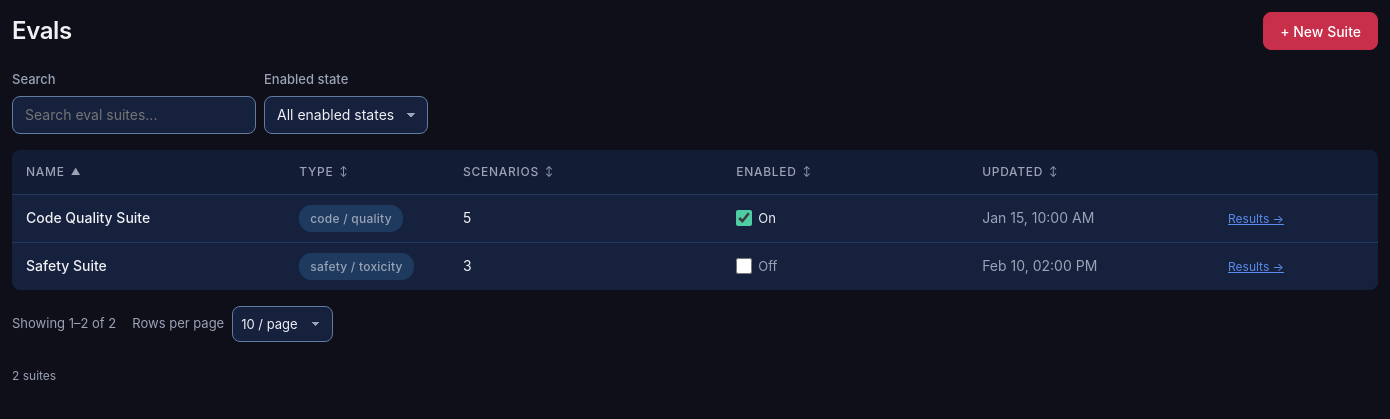
Scenario: EvalSuitesPage › resumes polling after a failed suite toggle without retrying the write
Step 1. Click the checkbox named "Enable Code Quality Suite" → (744, 218), box x1=736 y1=210 x2=752 y2=226
Wait 15000 ms
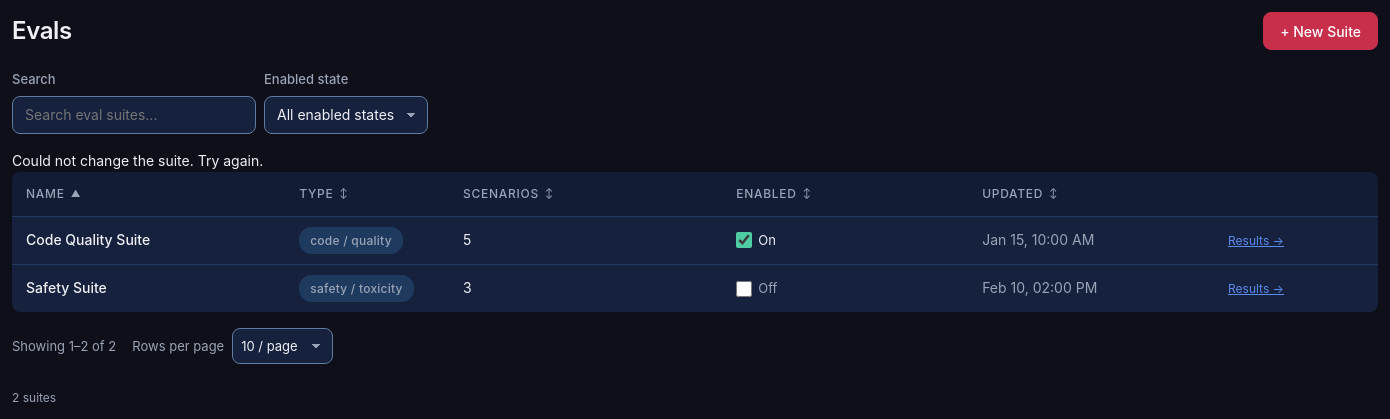
Expected: the message shows "Could not change the suite", x1=12 y1=152 x2=263 y2=168
